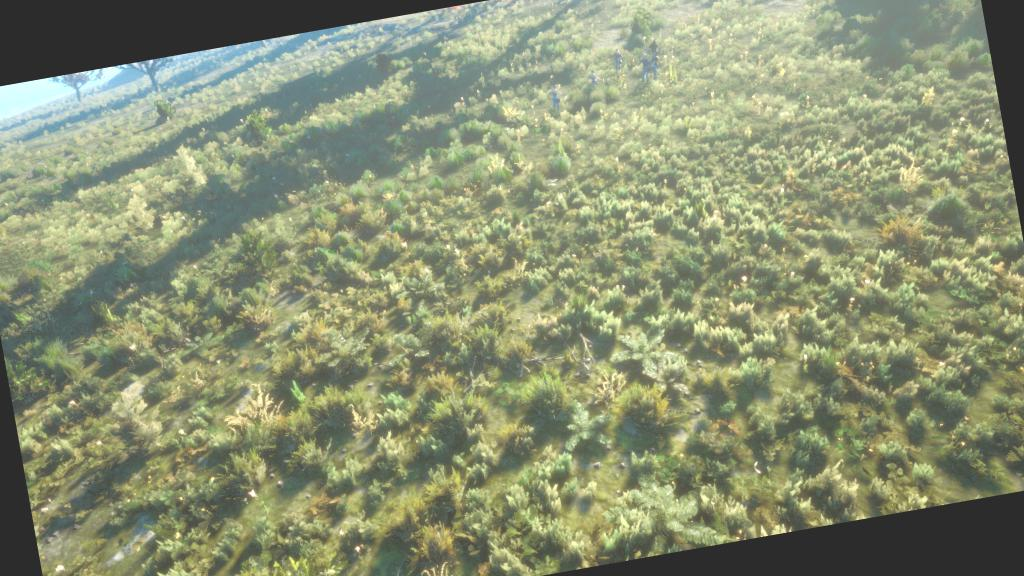human: (630, 26, 680, 88), (538, 77, 574, 117), (601, 39, 631, 82), (580, 56, 606, 94)
